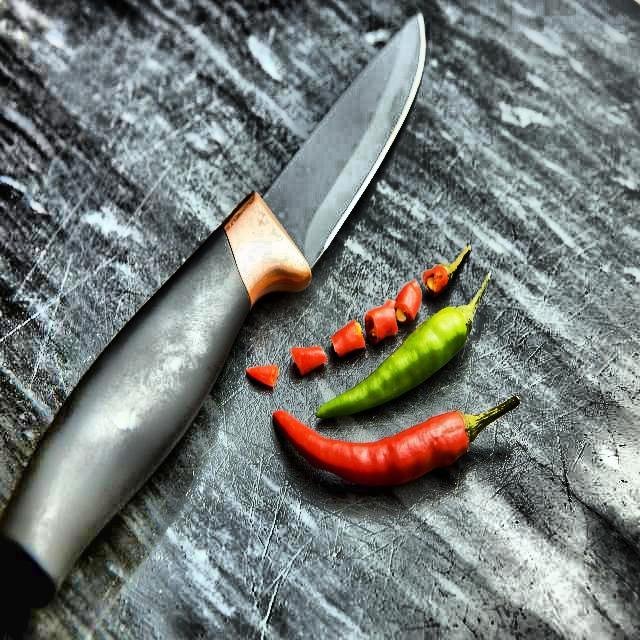knife: (3, 9, 429, 596)
